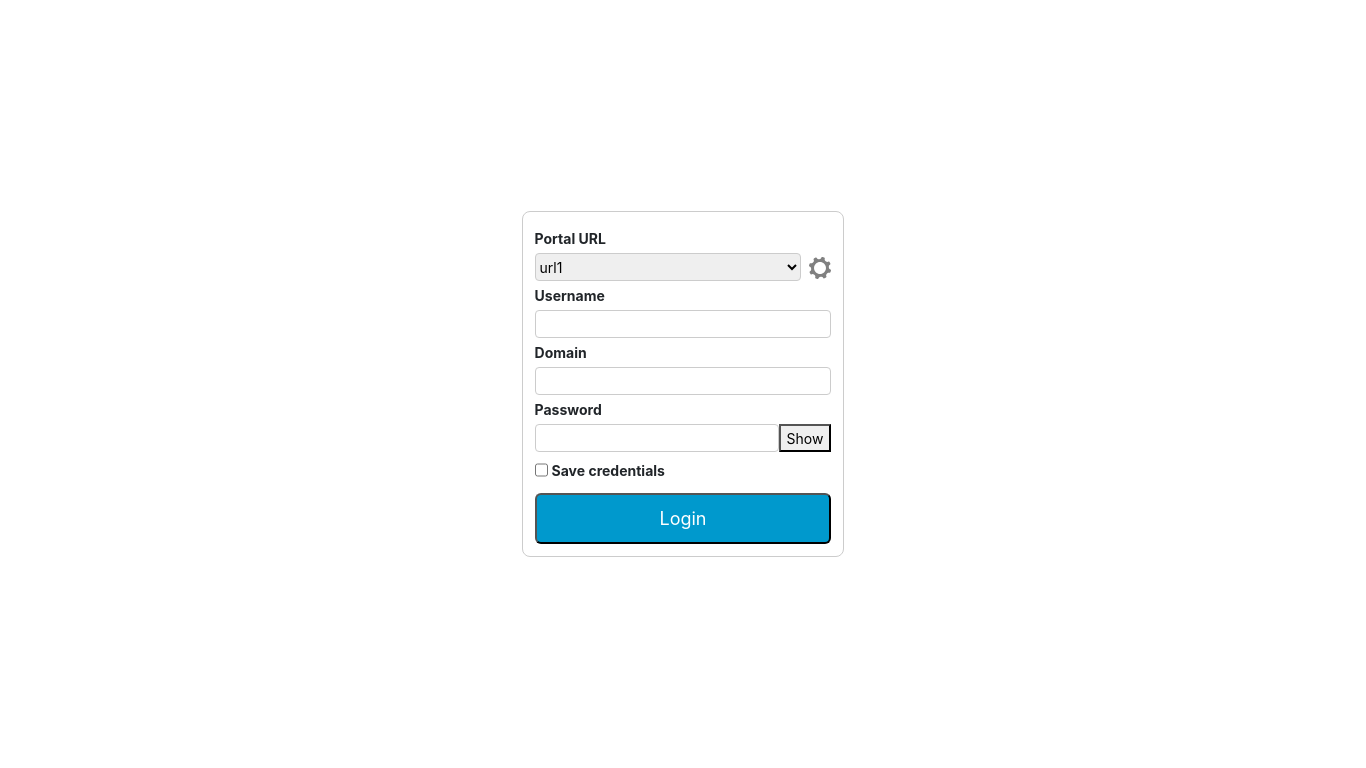
Login Container › given the settings button is pressed › should display the urlModal
Check: the text "Username" is shown, box [535,287,605,304]
Click the button with test id "settings" at (820, 267), box [809,253,831,281]
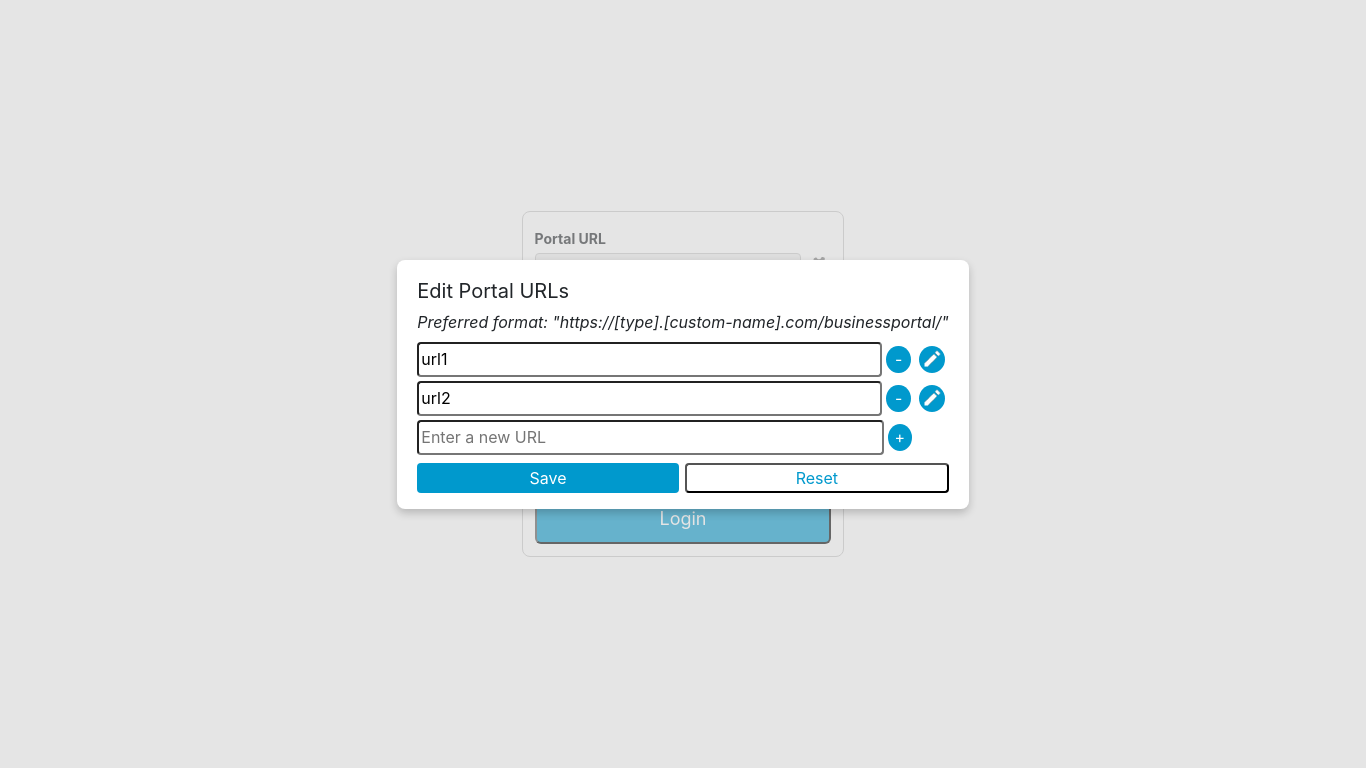
Check: the text "Edit Portal URLs" is shown, box [417,278,569,302]
Check: the 1st field showing "url1" is shown, box [417,342,882,376]
Check: the 2nd field showing "url2" is shown, box [417,380,882,416]
